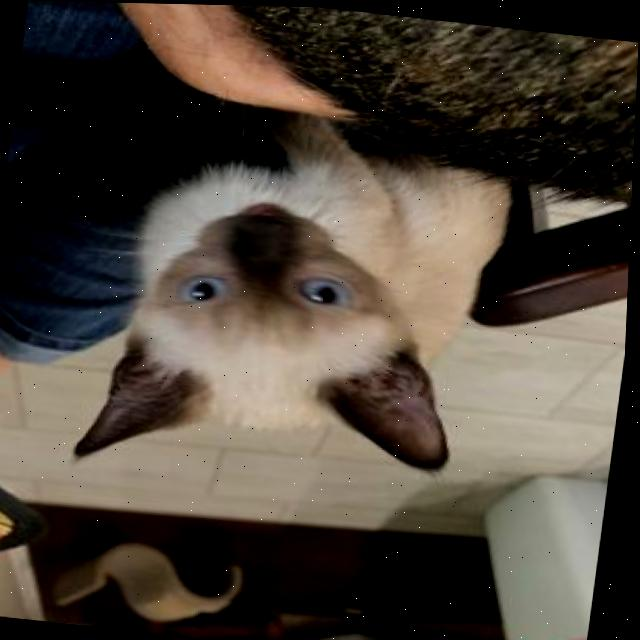Siamese: (65, 79, 537, 505)
